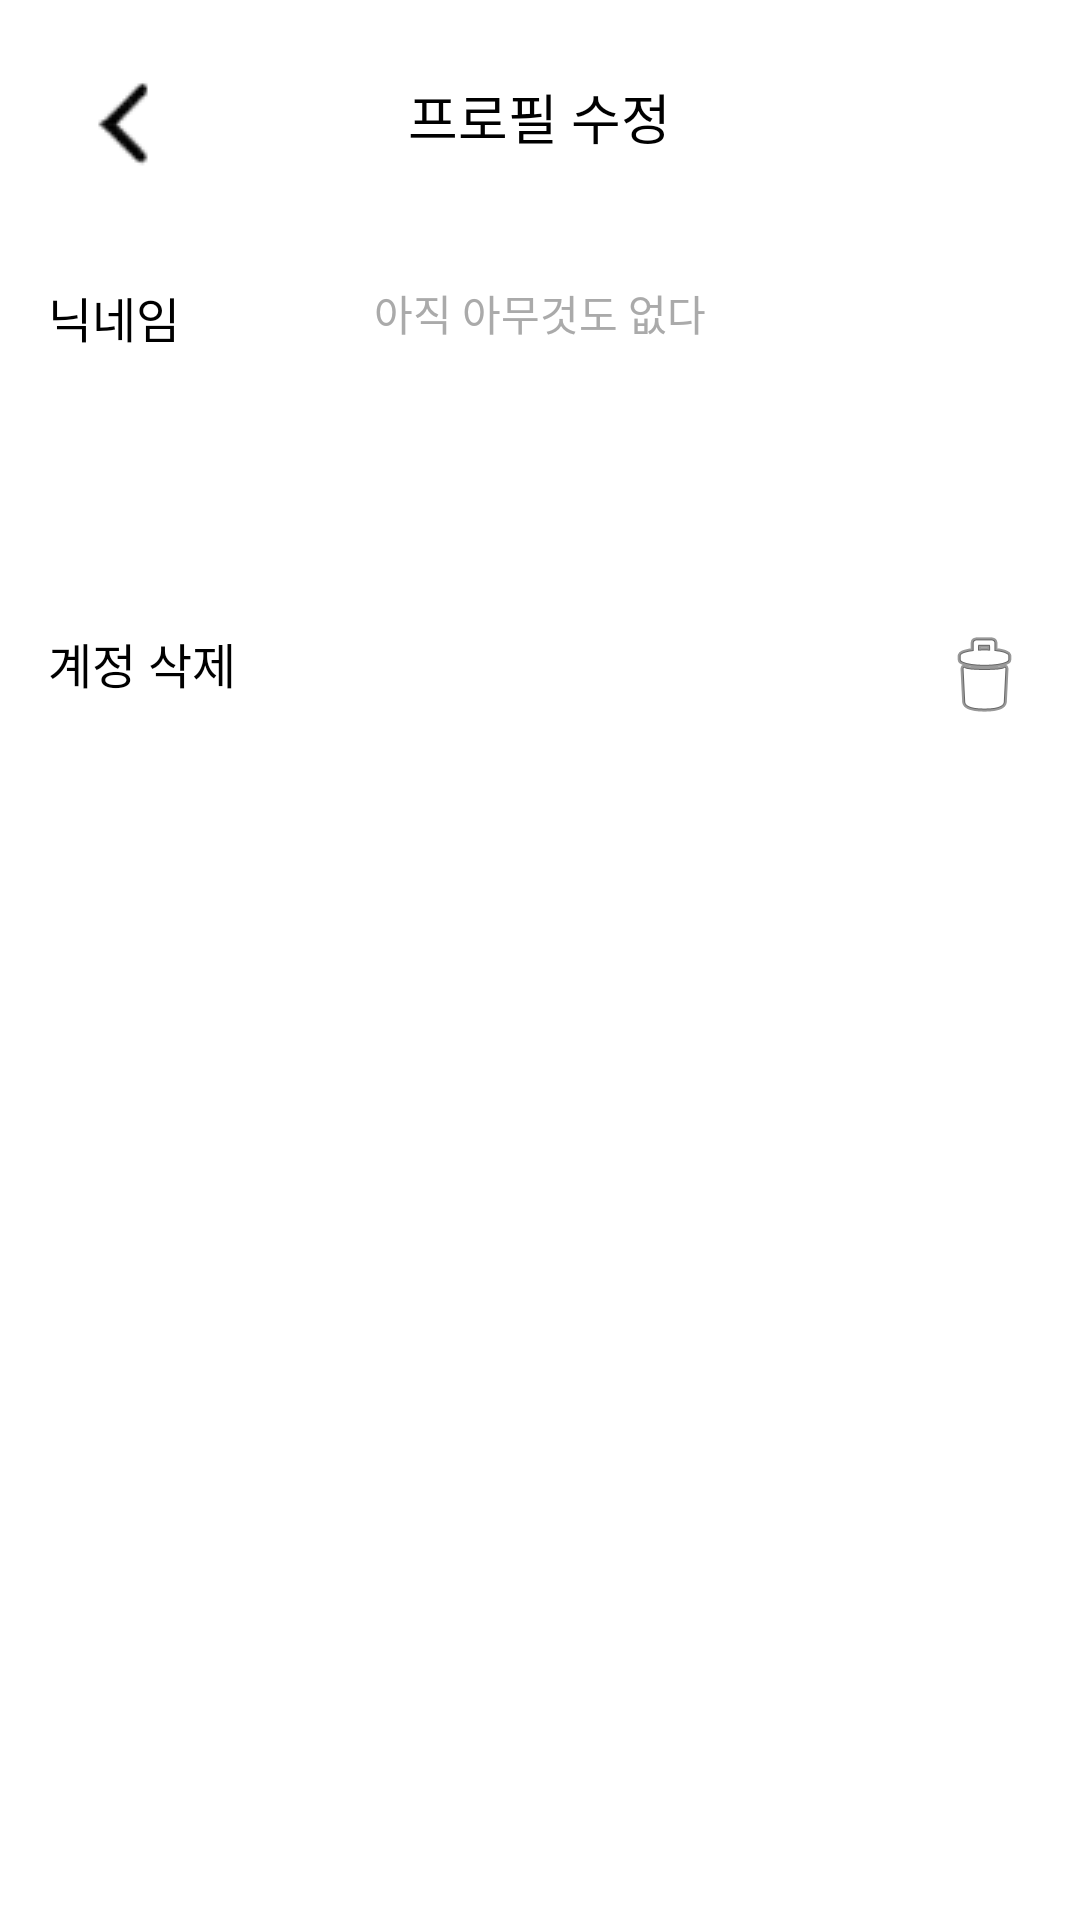

Icon click points for this 1080w x 1920h phone screenshot, format (x=x, y=y):
계정 삭제: (x=984, y=674)
뒤로 가기: (x=123, y=123)
